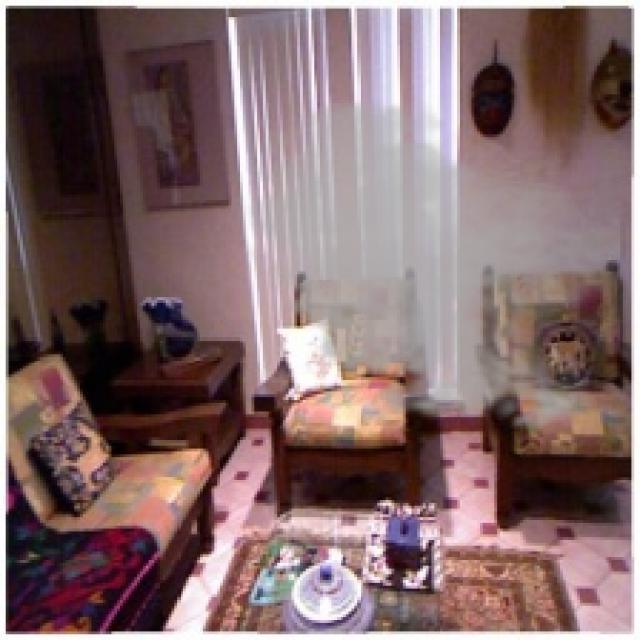Smoke: (234, 91, 626, 440)
